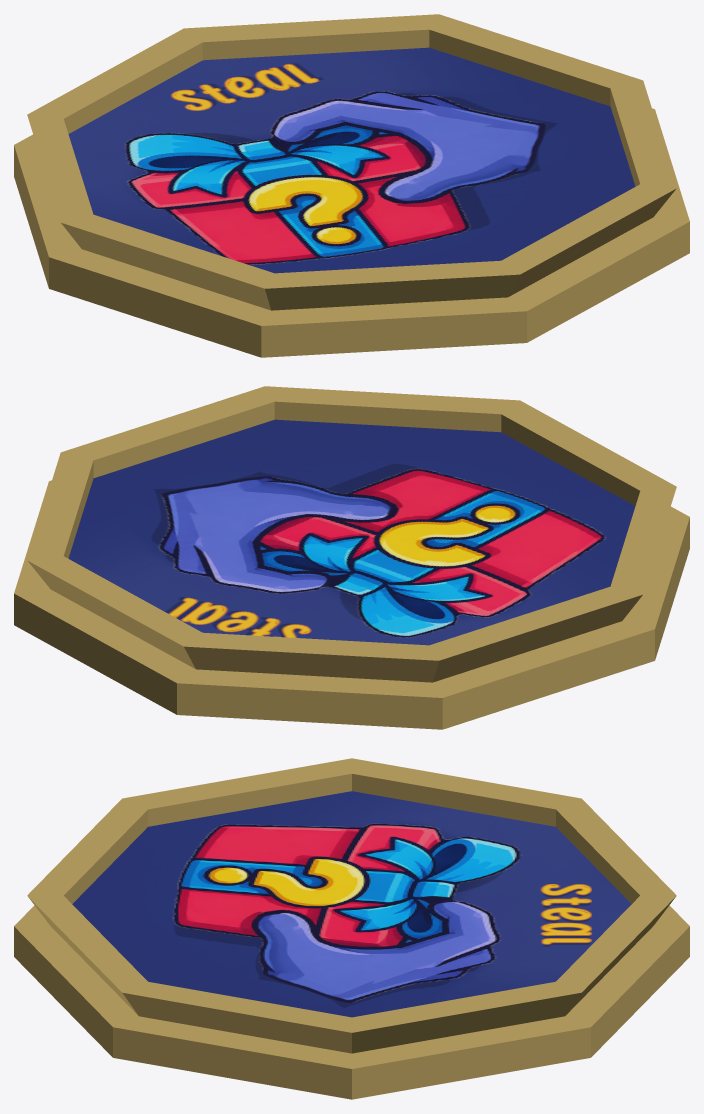
File: tile2 cdparty.fbx
The picture shows the model from 3 angles, top to bottom: view 1: azimuth 30°, elevation 25°; view 2: azimuth 150°, elevation 25°; view 3: azimuth 270°, elevation 25°; orthographic projection. The views are drawn at different scales.
Visible parts, largest first — view 1: pCylinder4; view 2: pCylinder4; view 3: pCylinder4.
Part boxes in pixels (box(x1,y1,x2,y2)): pCylinder4: box(14, 14, 689, 357); pCylinder4: box(14, 386, 689, 729); pCylinder4: box(14, 758, 689, 1099).
Size of the model in its own units: 2 by 0.2 by 2.
Materials: 2 (1 with a texture image).
